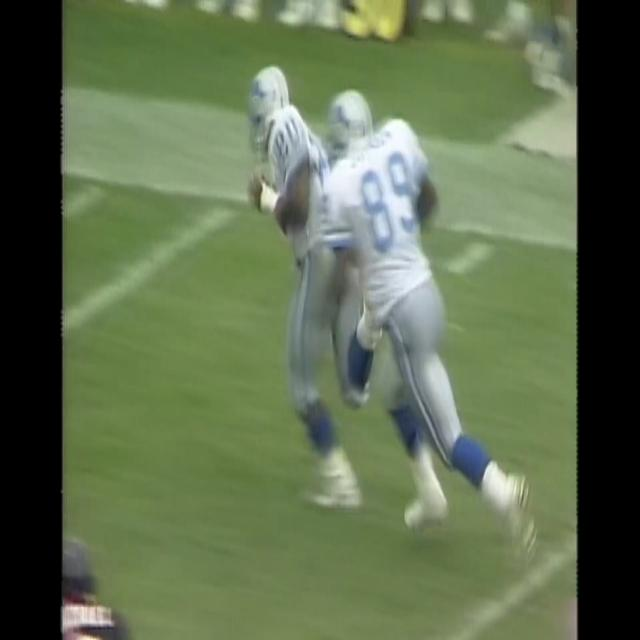players: (319, 84, 543, 559), (242, 67, 396, 526)
